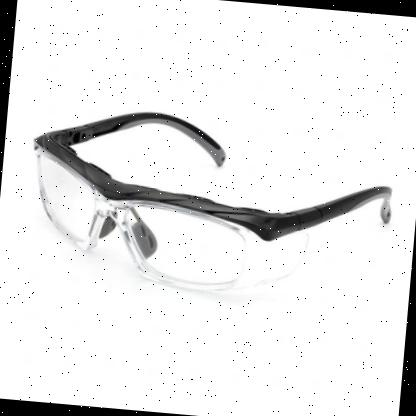oculos: (12, 98, 404, 313)
